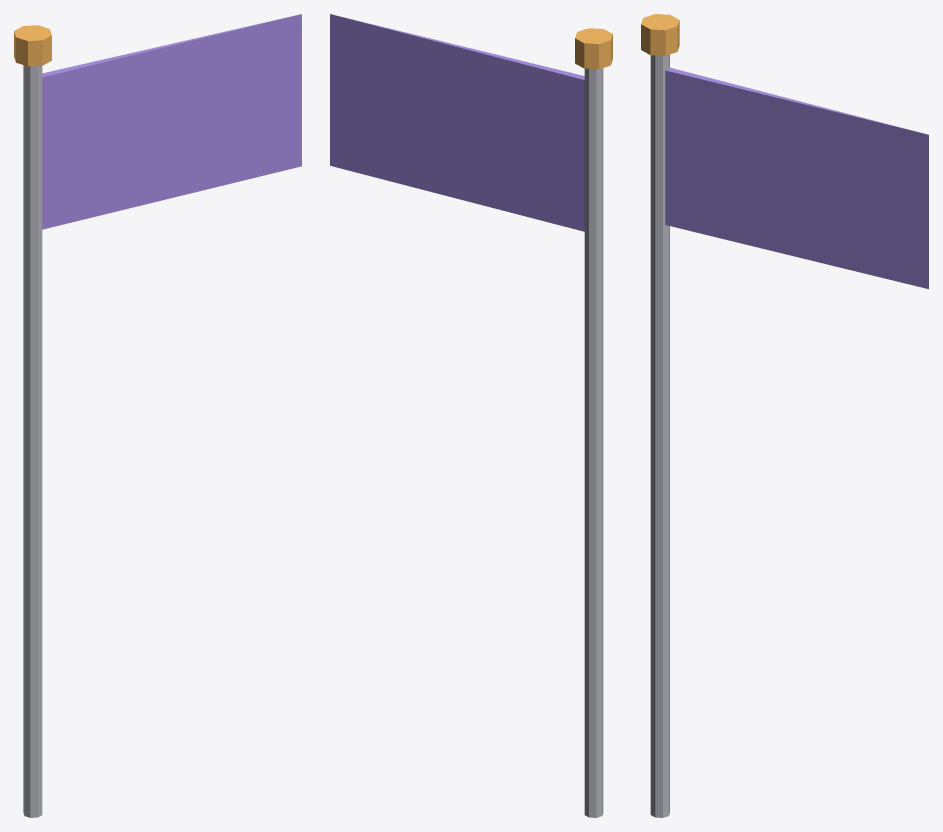
File: flag.glb
3 renders of one model, left to right at view 1: azimuth 30°, elevation 25°; view 2: azimuth 150°, elevation 25°; view 3: azimuth 330°, elevation 25°, orthographic.
Parts seen in each view (by area): view 1: flag; view 2: flag; view 3: flag.
Boxes of the visible parts, box(x1,y1,x2,y2) form: flag: box(14, 14, 301, 817); flag: box(330, 14, 612, 817); flag: box(641, 14, 928, 817).
Size of the model in its own units: 2.34 by 6.15 by 0.28.
